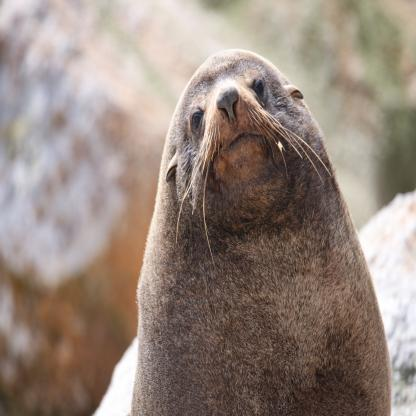face: (162, 48, 305, 202)
